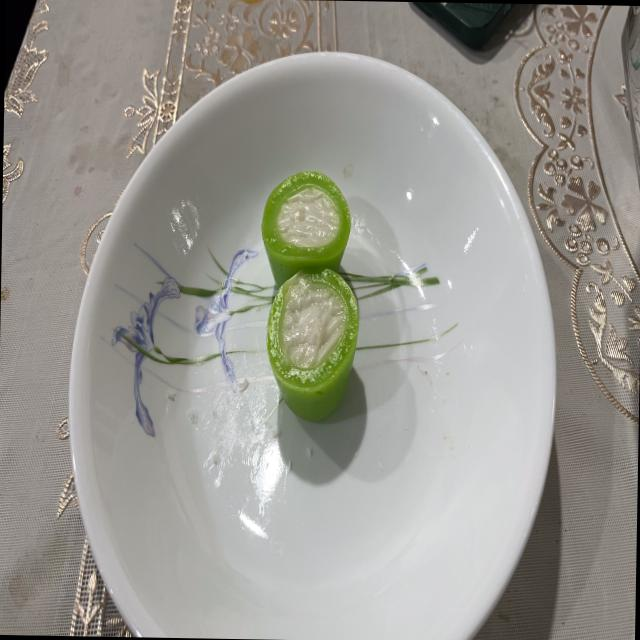nona-manis: (266, 269, 359, 420), (261, 171, 351, 286)
